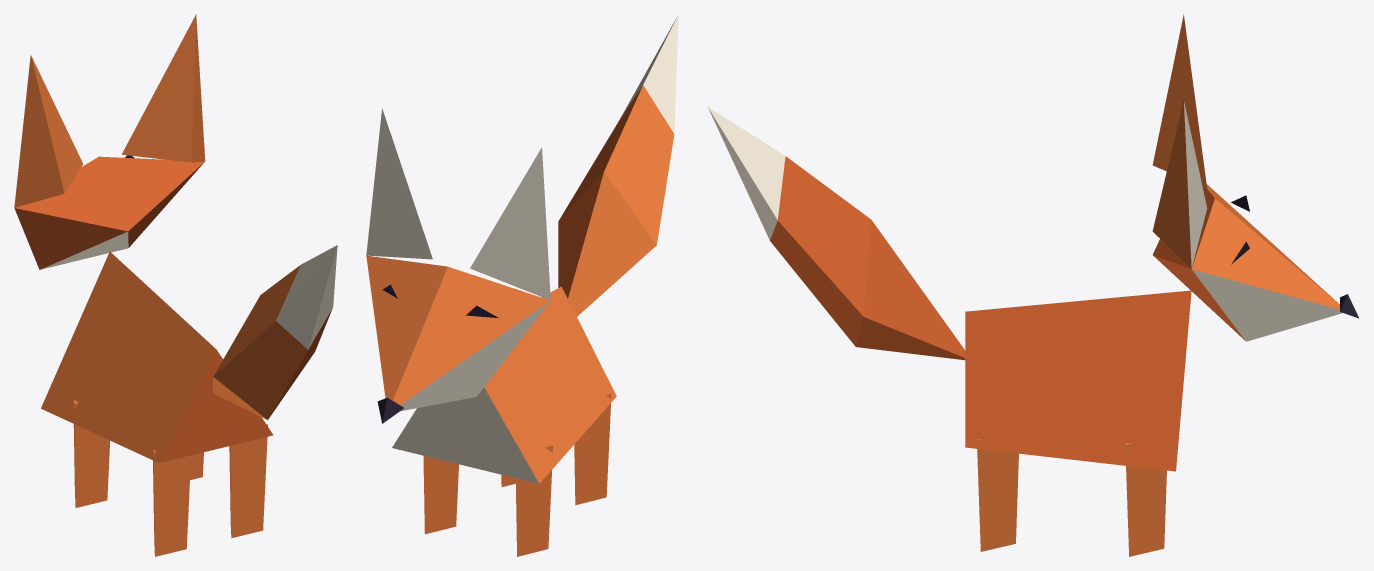
Rendered from kami.glb.
3 renders of one model, left to right at view 1: azimuth 30°, elevation 25°; view 2: azimuth 150°, elevation 25°; view 3: azimuth 270°, elevation 25°, orthographic. The views are drawn at different scales.
Visible parts, largest first — view 1: Torso, Face, TailMesh, Ear.001, Ear, Leg2, Leg3, Leg0; view 2: Torso, Face, TailMesh, Ear, Ear.001, Leg2, Leg0, Leg1, Nose; view 3: Torso, TailMesh, Face, Ear.001, Leg3, Leg1, Ear.
Part boxes in pixels (box(x1,y1,x2,y2)): Torso: box(41, 251, 273, 462); Face: box(14, 156, 204, 269); TailMesh: box(212, 245, 337, 419); Ear.001: box(122, 14, 205, 162); Ear: box(14, 55, 82, 207); Leg2: box(153, 450, 191, 556); Leg3: box(229, 424, 267, 538); Leg0: box(73, 400, 110, 507); Torso: box(392, 286, 616, 483); Face: box(366, 255, 550, 411); TailMesh: box(558, 14, 678, 316); Ear: box(470, 147, 550, 300); Ear.001: box(366, 108, 432, 259); Leg2: box(574, 393, 611, 505); Leg0: box(515, 444, 553, 556); Leg1: box(423, 455, 458, 534); Nose: box(377, 397, 403, 423); Torso: box(965, 290, 1191, 471); TailMesh: box(708, 107, 965, 360); Face: box(1153, 184, 1342, 341); Ear.001: box(1152, 100, 1207, 268); Leg3: box(977, 438, 1018, 551); Leg1: box(1125, 443, 1166, 556); Ear: box(1152, 14, 1207, 188).
Bounding box in the file's own units: 0.3 × 0.66 × 0.835.
